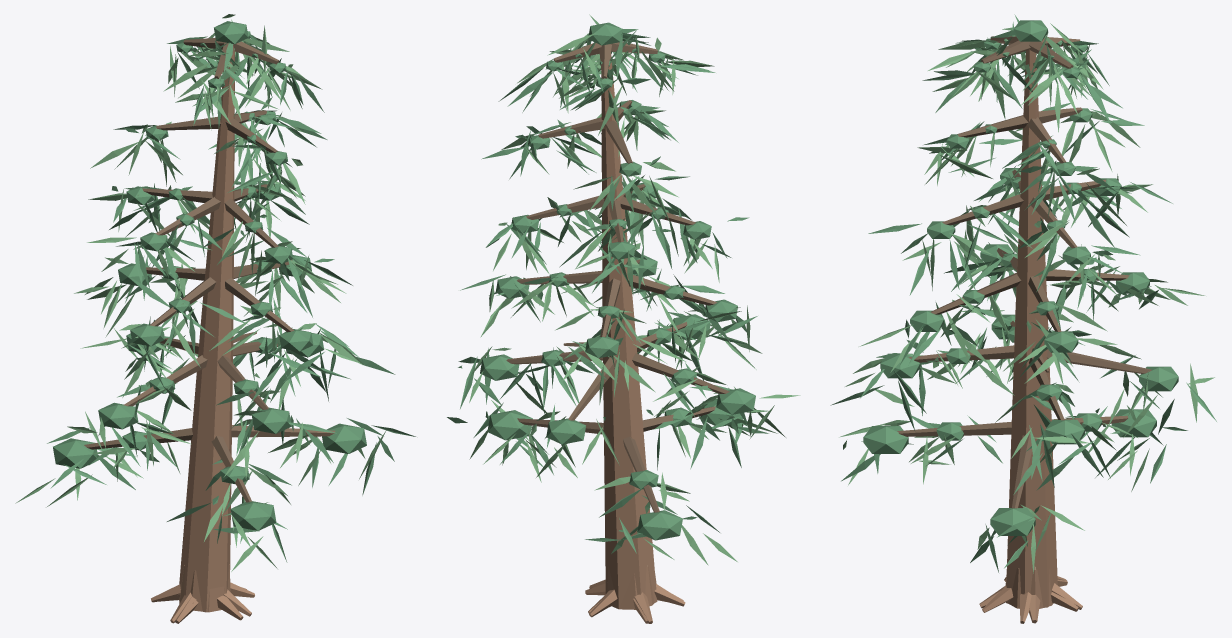
File: plant-pine-a.glb
3 views of the same model, side by side, from view 1: azimuth 30°, elevation 25°; view 2: azimuth 150°, elevation 25°; view 3: azimuth 270°, elevation 25° (orthographic). The views are drawn at different scales.
Visible parts, largest first — view 1: plant-pine-a_standing_needleA, plant-pine-a_standing_needleB, plant-pine-a_standing_trunkPine, plant-pine-a_standing_barkDark, plant-pine-a_stump_trunkPine; view 2: plant-pine-a_standing_needleA, plant-pine-a_standing_needleB, plant-pine-a_standing_trunkPine, plant-pine-a_standing_barkDark, plant-pine-a_stump_trunkPine; view 3: plant-pine-a_standing_needleA, plant-pine-a_standing_needleB, plant-pine-a_standing_trunkPine, plant-pine-a_standing_barkDark, plant-pine-a_stump_trunkPine.
Boxes of the visible parts, x1,y1,x2,y2 form: plant-pine-a_standing_needleA: (47, 21, 415, 562); plant-pine-a_standing_needleB: (15, 14, 386, 571); plant-pine-a_standing_trunkPine: (151, 51, 254, 623); plant-pine-a_standing_barkDark: (84, 38, 335, 502); plant-pine-a_stump_trunkPine: (159, 564, 246, 623); plant-pine-a_standing_needleA: (447, 22, 768, 553); plant-pine-a_standing_needleB: (469, 14, 800, 565); plant-pine-a_standing_trunkPine: (589, 53, 685, 623); plant-pine-a_standing_barkDark: (506, 42, 729, 512); plant-pine-a_stump_trunkPine: (585, 566, 683, 623); plant-pine-a_standing_needleA: (830, 14, 1216, 572); plant-pine-a_standing_needleB: (839, 23, 1214, 573); plant-pine-a_standing_trunkPine: (982, 49, 1082, 623); plant-pine-a_standing_barkDark: (897, 36, 1151, 508); plant-pine-a_stump_trunkPine: (979, 567, 1078, 623).
Size of the model in its own units: 3.63 by 5.73 by 3.39.
